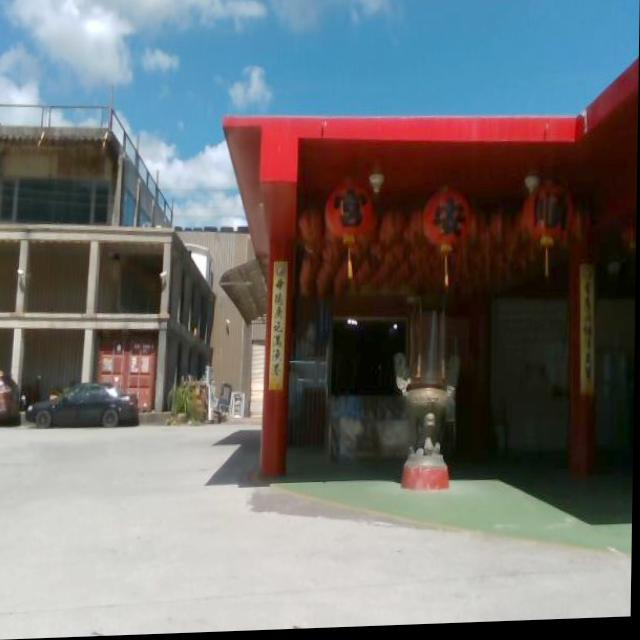pollute: (186, 366, 250, 427)
